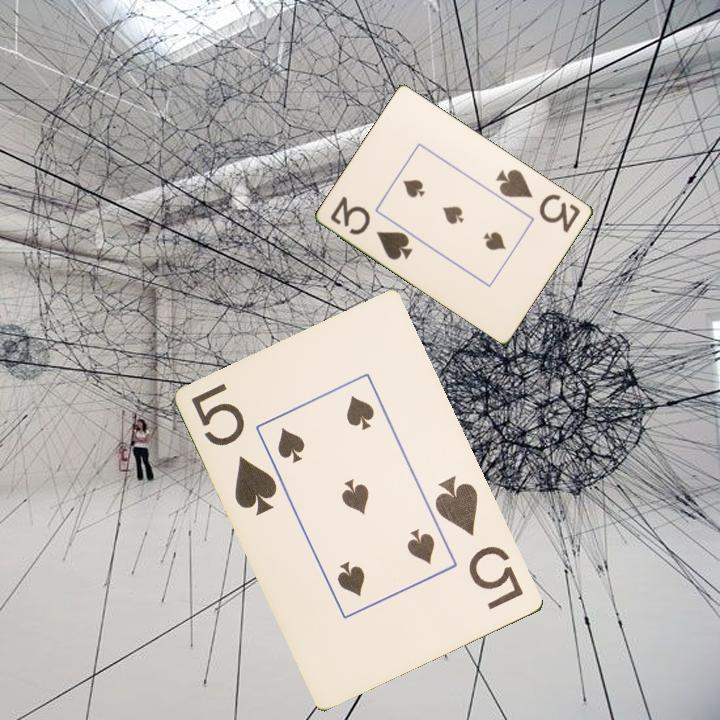3s: (492, 165, 584, 236), (327, 192, 417, 263)
5s: (431, 472, 527, 613), (188, 380, 281, 519)
